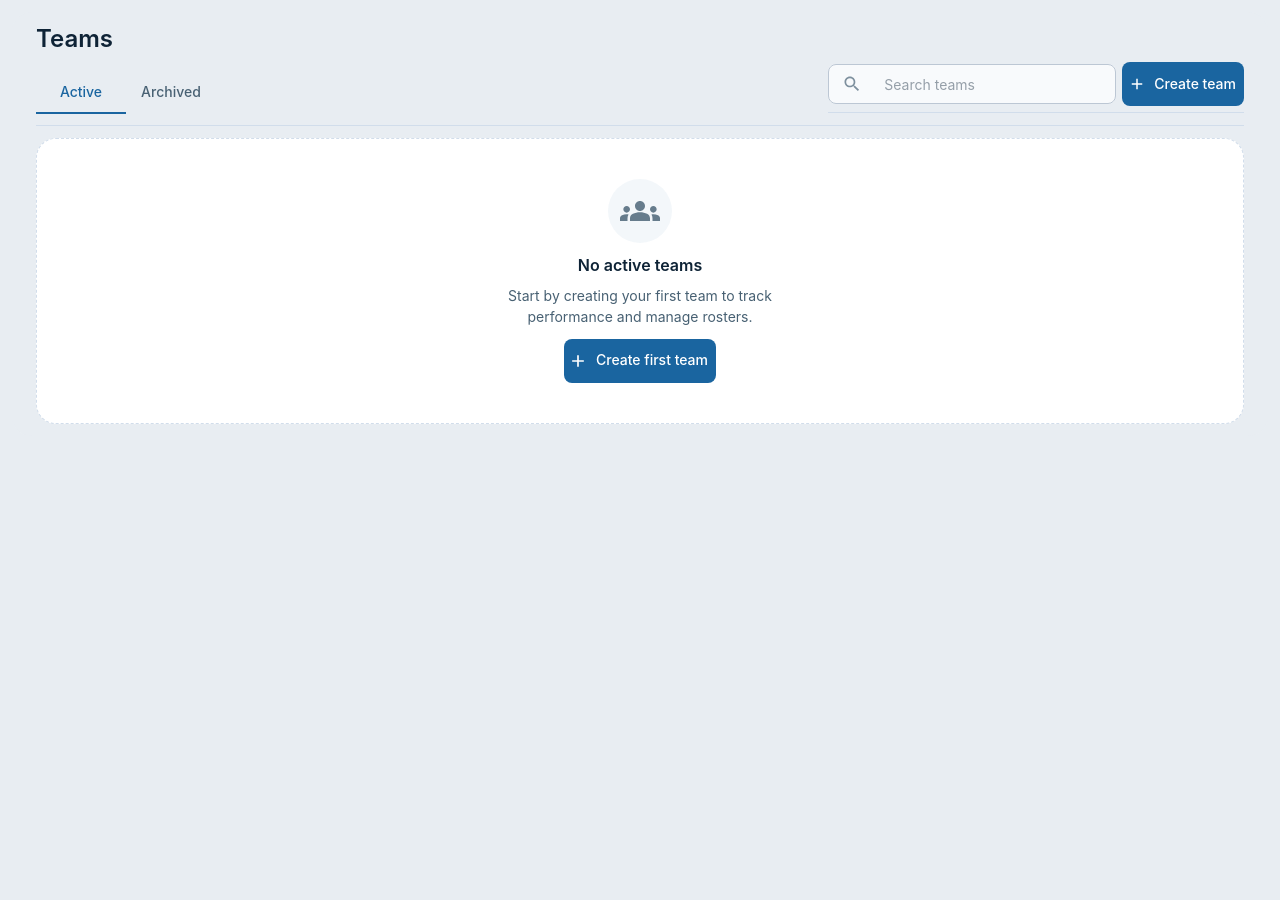
Teams Component › shows an error message when adding a team fails
The image size is (1280, 900).
Click the button "Create first team" at (640, 361), box top-left (564, 339), bottom-right (716, 383)
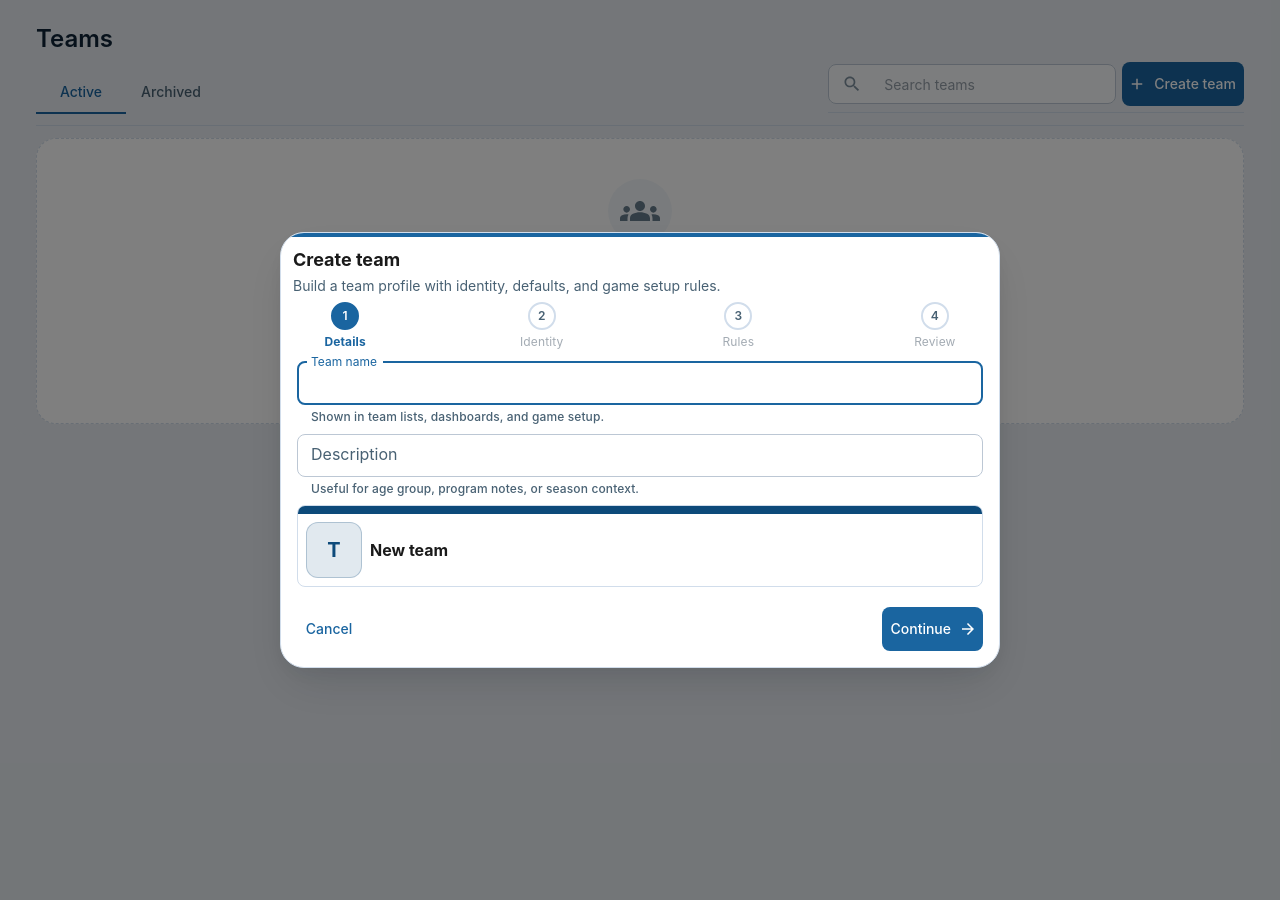
Type "Fail Team" into the field labelled "Team name" at (640, 383), box top-left (297, 362), bottom-right (983, 405)
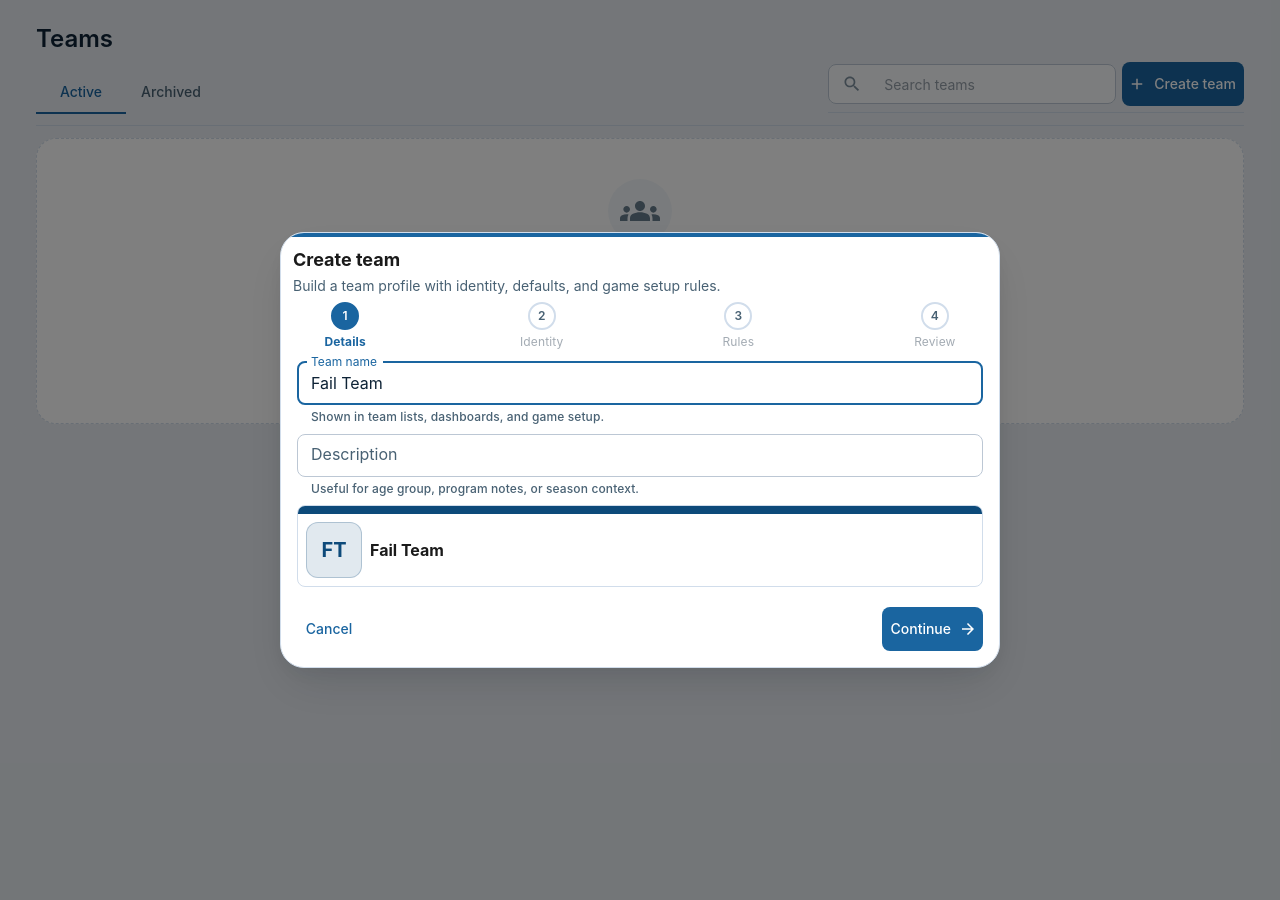
Expected: the button "Continue" is shown
Click the button "Continue" at (933, 629), box top-left (882, 607), bottom-right (983, 651)
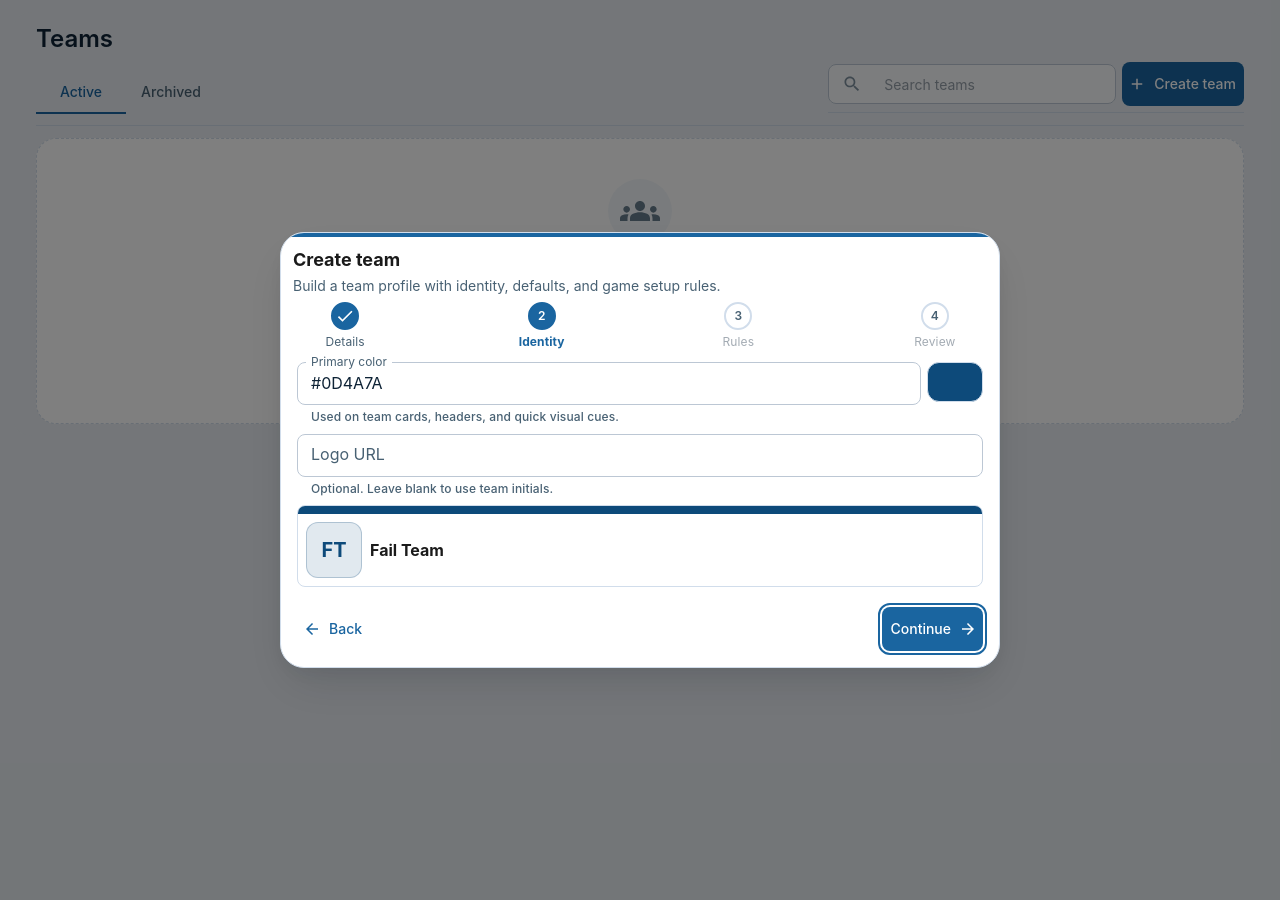
Expected: the button "Continue" is shown
Click the button "Continue" at (933, 629), box top-left (882, 607), bottom-right (983, 651)
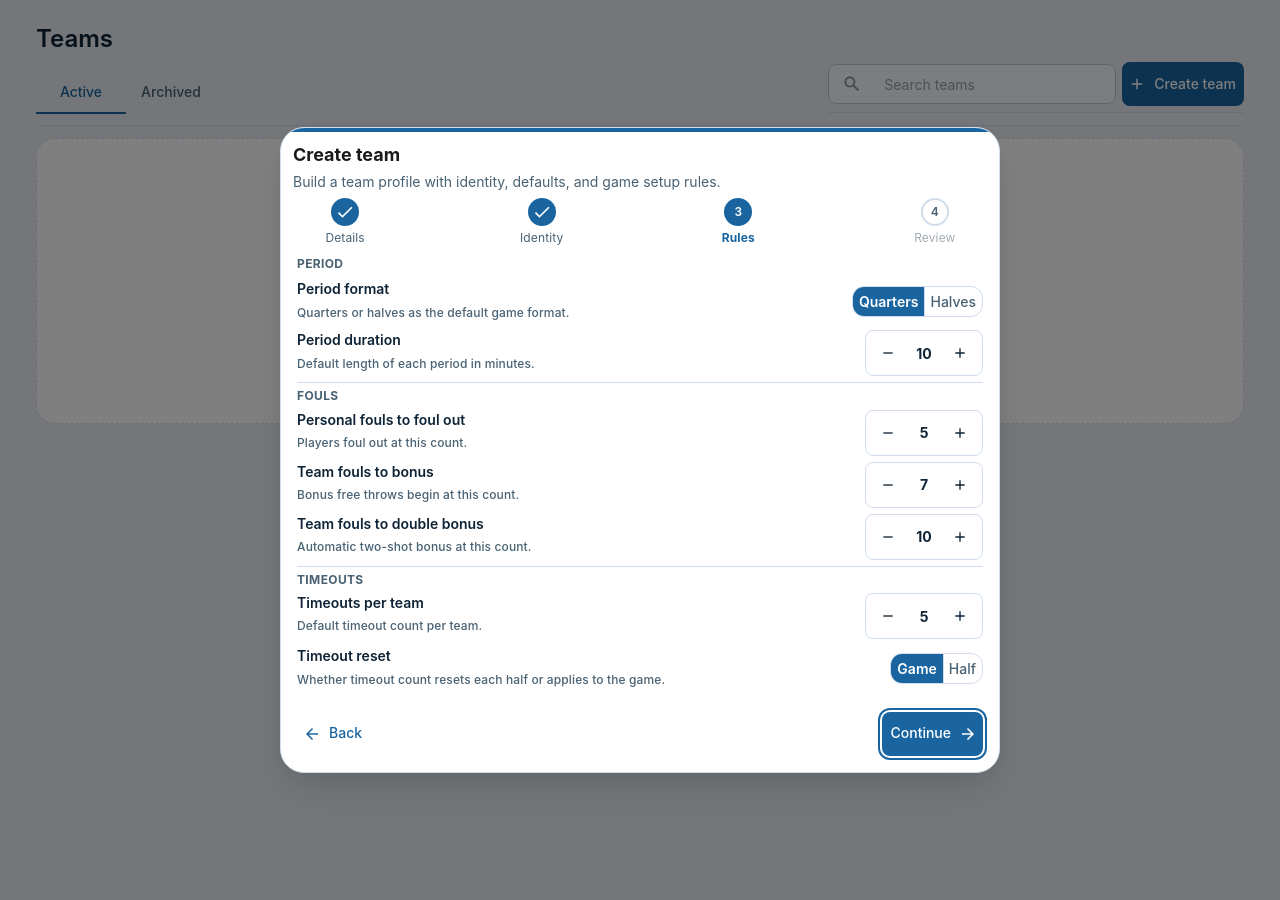
Expected: the button "Continue" is shown
Click the button "Continue" at (933, 734), box top-left (882, 712), bottom-right (983, 756)
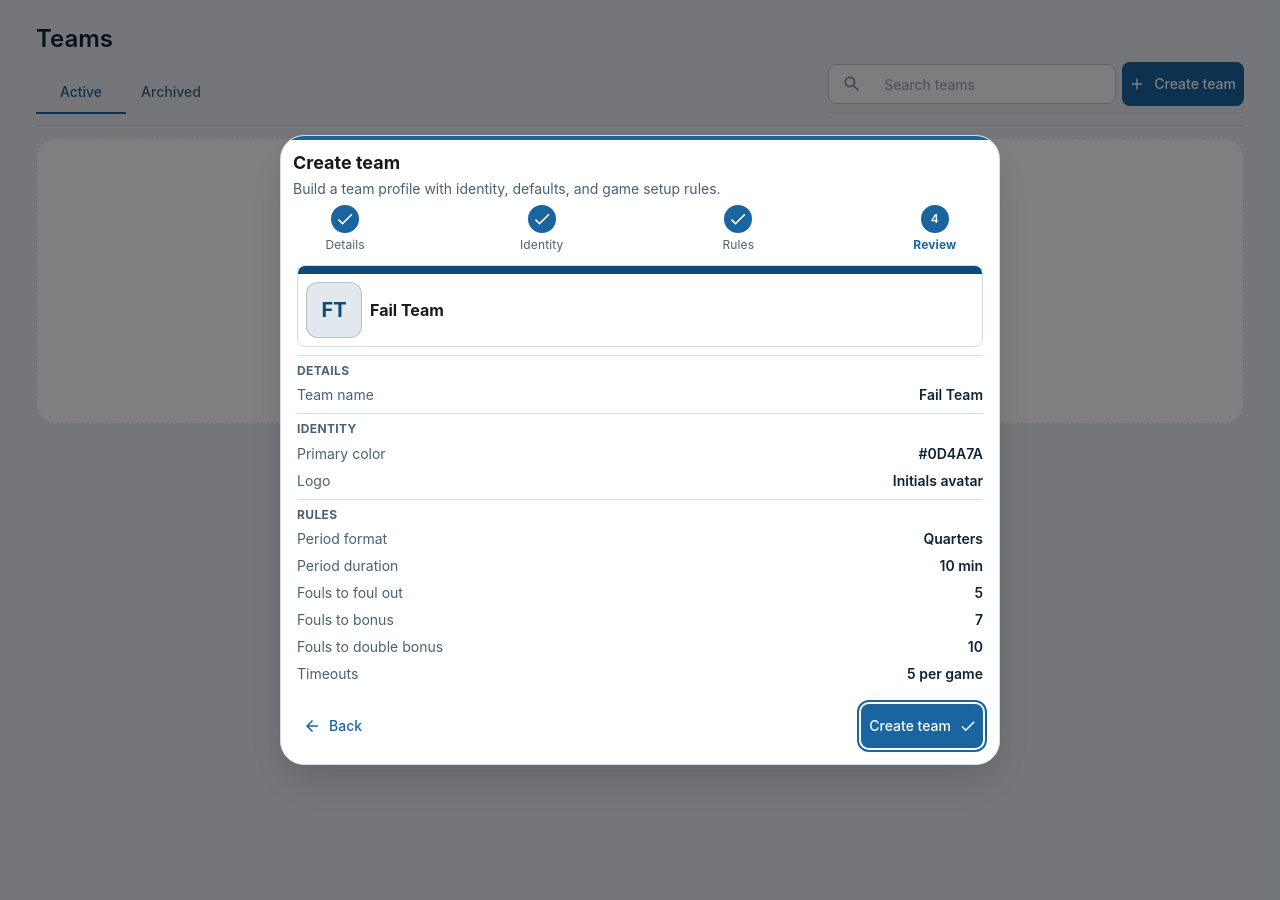
Expected: the button "Create team" is shown
Click the button "Create team" at (922, 726), box top-left (861, 704), bottom-right (983, 748)
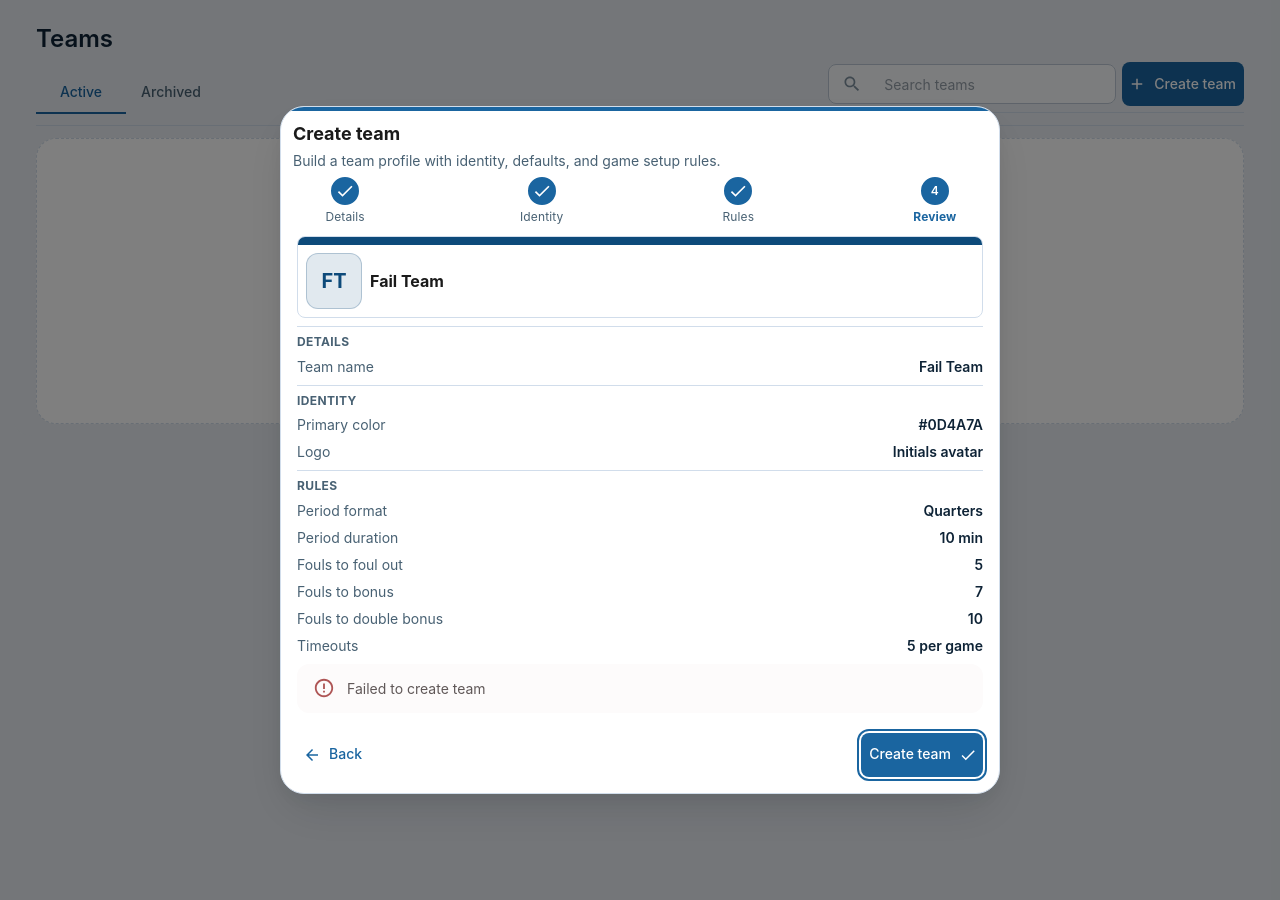
Expected: the text "Failed to create team" is shown, top-left (347, 680), bottom-right (486, 697)
